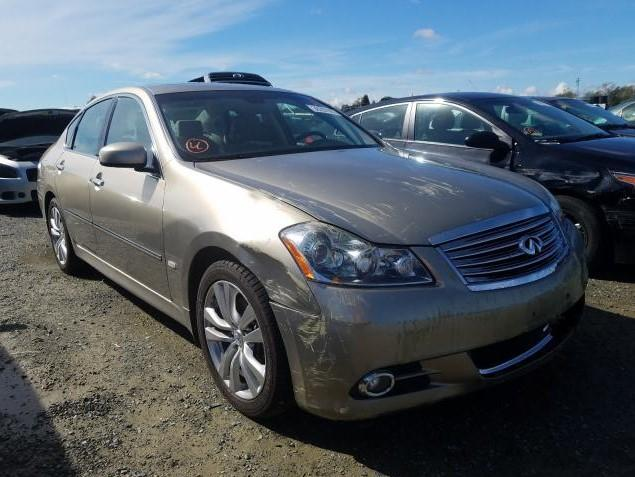Back-door: (54, 96, 115, 255)
Back-wheel: (47, 198, 75, 275)
Back-window: (65, 98, 113, 156)
Fender: (162, 159, 319, 313)
Front-bumper: (275, 242, 587, 418)
Front-door: (92, 94, 172, 301)
Front-wheel: (193, 257, 283, 418)
Front-window: (98, 95, 156, 177)
Grille: (436, 208, 580, 291)
Headlight: (283, 220, 428, 289)
Hood: (189, 143, 554, 251)
Mirror: (94, 143, 150, 172)
Quarter-panel: (37, 140, 64, 216)
Rocker-panel: (75, 243, 193, 335)
Roof: (98, 80, 289, 96)
Windshield: (153, 87, 380, 161)
